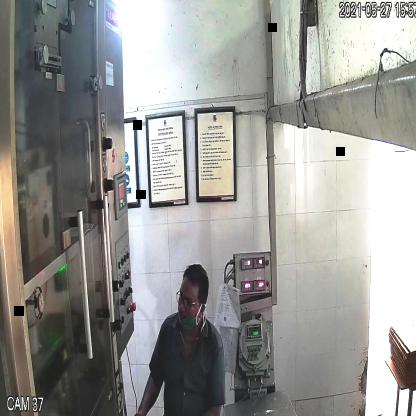goggles: (173, 283, 205, 314)
